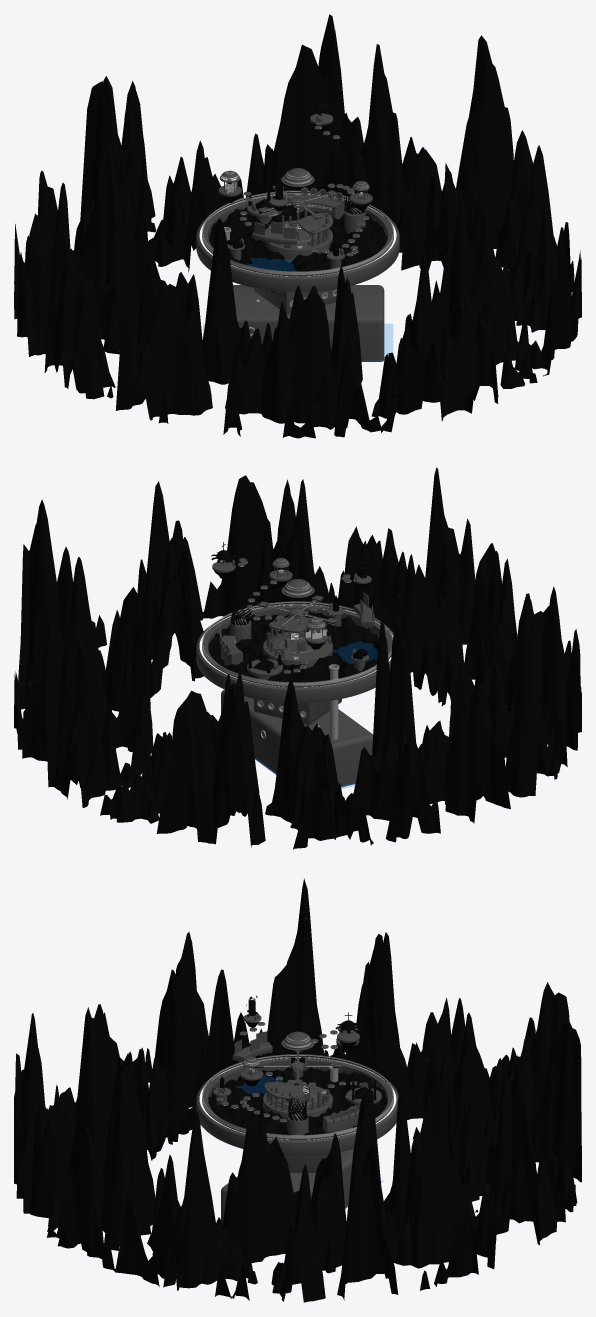
The model's file is greyworld-transformed.glb.
3 views of the same model, one above another, from view 1: azimuth 30°, elevation 25°; view 2: azimuth 150°, elevation 25°; view 3: azimuth 270°, elevation 25° (orthographic).
Parts seen in each view (by area): view 1: Mountains, Base, Terrain, SewerBox, Core, Ring, RingTrack.003, PuzzleRoom, InternationalArc; view 2: Mountains, Terrain, Base, SewerBox, Core, PuzzleRoom, Ring, RingTrack.003, Pipe; view 3: Mountains, Base, Terrain, SewerBox, RingTrack.003, Ring, Core, PuzzleRoom, InternationalArc.
Boxes of the visible parts, <box> form: Mountains: <box>14,14,581,438</box>; Base: <box>196,193,399,292</box>; Terrain: <box>209,205,387,291</box>; SewerBox: <box>233,285,384,361</box>; Core: <box>264,220,332,262</box>; Ring: <box>202,191,393,274</box>; RingTrack.003: <box>202,191,393,273</box>; PuzzleRoom: <box>254,288,337,313</box>; InternationalArc: <box>298,196,344,219</box>; Mountains: <box>14,467,581,849</box>; Terrain: <box>208,609,387,682</box>; Base: <box>196,604,393,703</box>; SewerBox: <box>221,689,373,787</box>; Core: <box>263,631,332,667</box>; PuzzleRoom: <box>254,699,341,724</box>; Ring: <box>202,601,392,685</box>; RingTrack.003: <box>202,602,392,684</box>; Pipe: <box>328,664,339,739</box>; Mountains: <box>14,878,581,1302</box>; Base: <box>196,1057,398,1155</box>; Terrain: <box>208,1067,387,1135</box>; SewerBox: <box>221,1149,353,1225</box>; RingTrack.003: <box>202,1055,393,1137</box>; Ring: <box>202,1054,393,1138</box>; Core: <box>263,1084,332,1118</box>; PuzzleRoom: <box>284,1154,328,1172</box>; InternationalArc: <box>323,1106,359,1132</box>.
Size of the model in its own units: 237 by 106 by 237.
9 materials, 1 textured.
